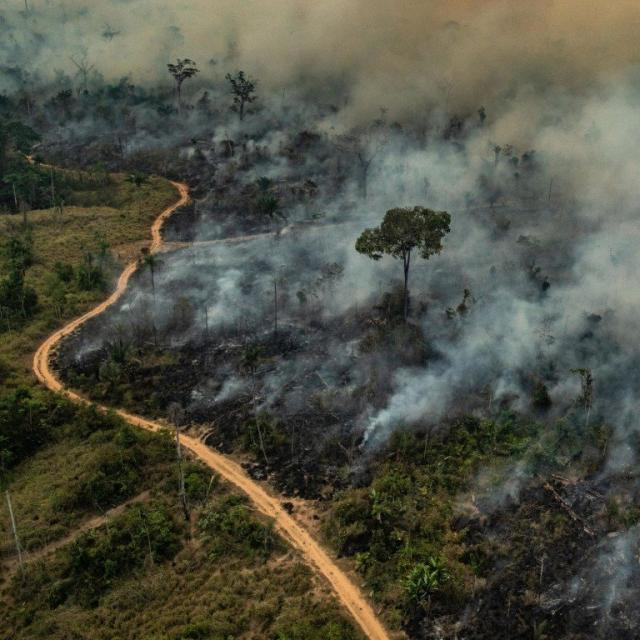Smoke: (346, 287, 640, 619), (346, 1, 640, 280), (0, 0, 341, 212), (52, 215, 344, 450)
